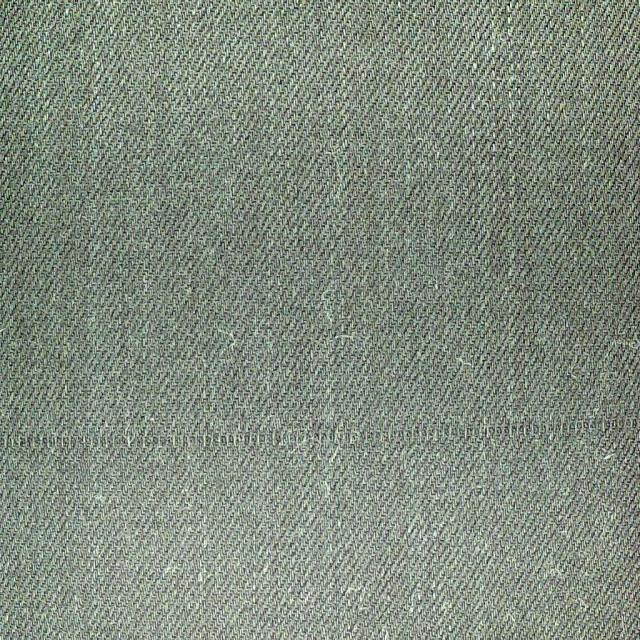Line: (0, 412, 640, 449)
